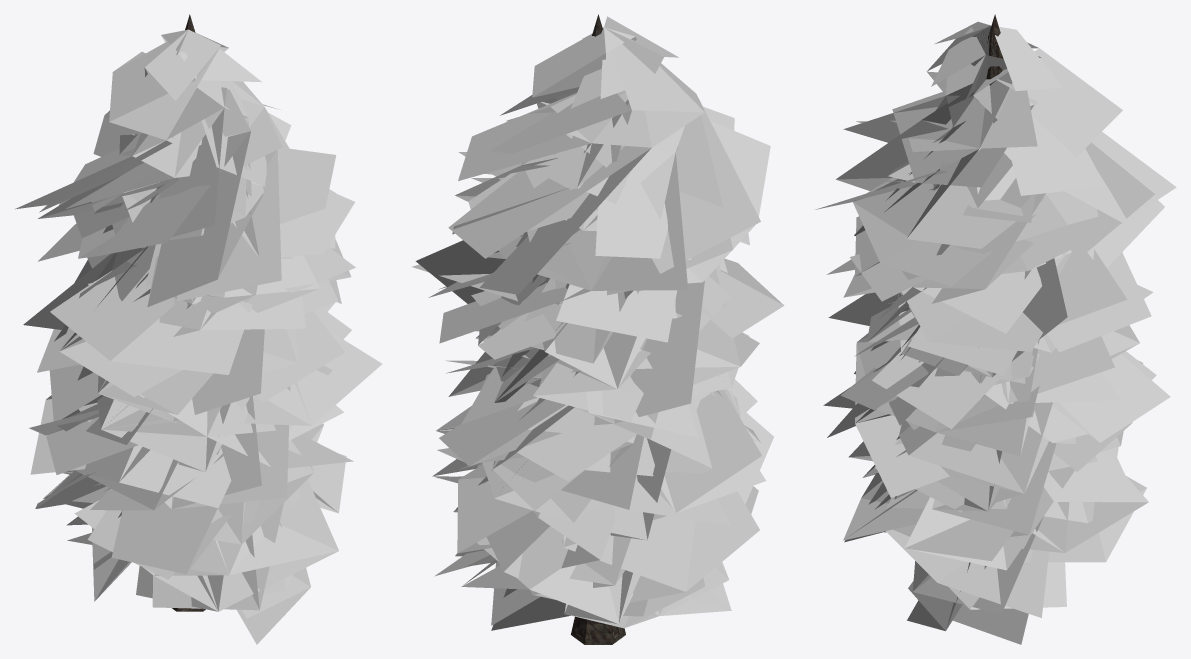
File: Tree_Conifer_Leaves.fbx
The picture shows the model from 3 angles, left to right: view 1: azimuth 30°, elevation 25°; view 2: azimuth 150°, elevation 25°; view 3: azimuth 270°, elevation 25°; orthographic projection. The views are drawn at different scales.
Visible parts, largest first — view 1: Leaf; view 2: Leaf; view 3: Leaf.
Boxes of the visible parts, x1=… form: Leaf: x1=15, y1=14, x2=382, y2=644; Leaf: x1=412, y1=14, x2=784, y2=644; Leaf: x1=815, y1=14, x2=1176, y2=644.
Size of the model in its own units: 3125 by 5684 by 3144.
